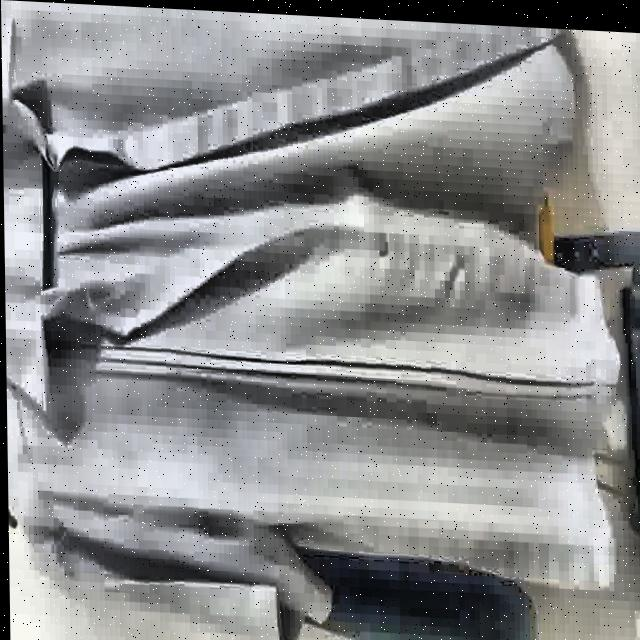clothes: (0, 5, 627, 640)
